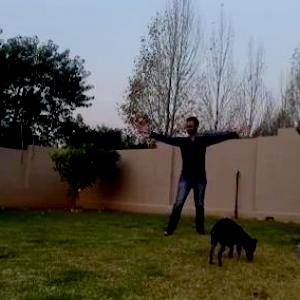takeoff: (142, 112, 260, 245)
